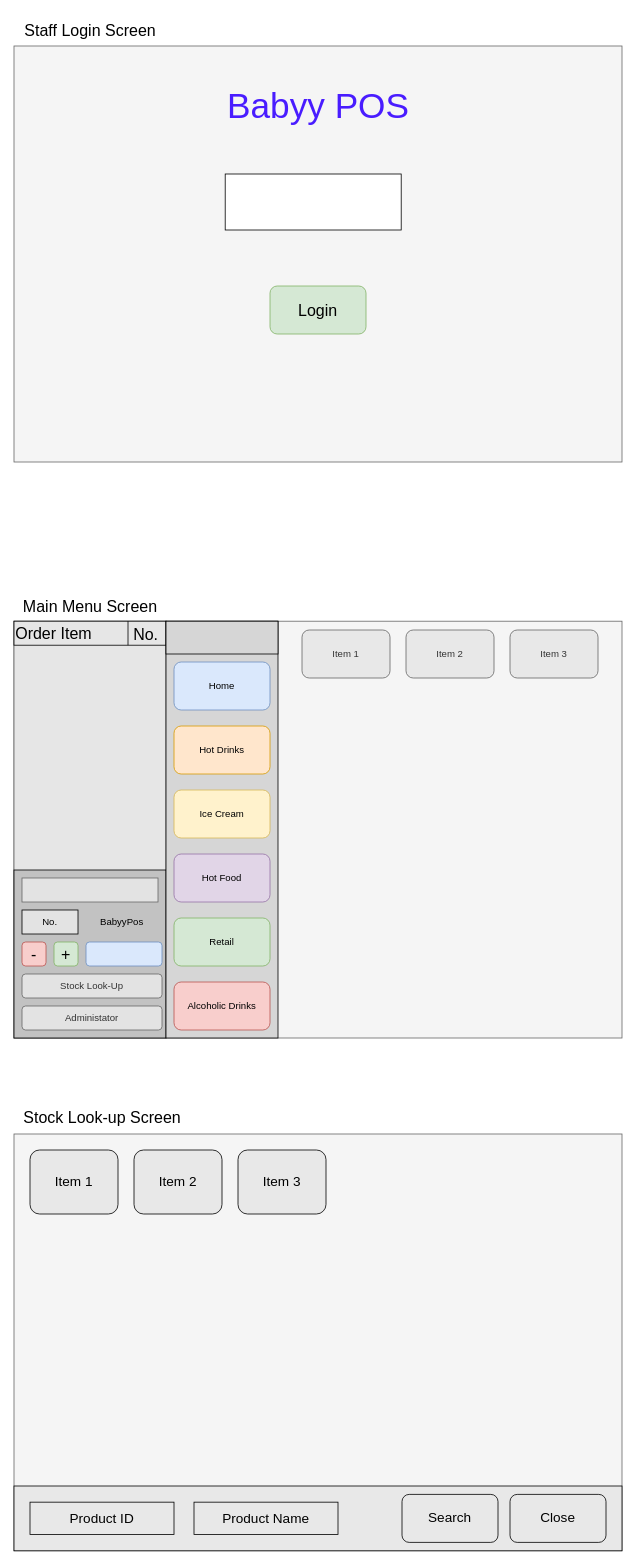
This 636x1565 diagram has some shape labels left out. The shapes that lost their labels are listed below. From the top down, each one's centre as x and y in pixels, then its label:
[312,201]: ID Input
[221,637]: Catagories
[89,889]: Product ID Input
[123,953]: Delete Item
